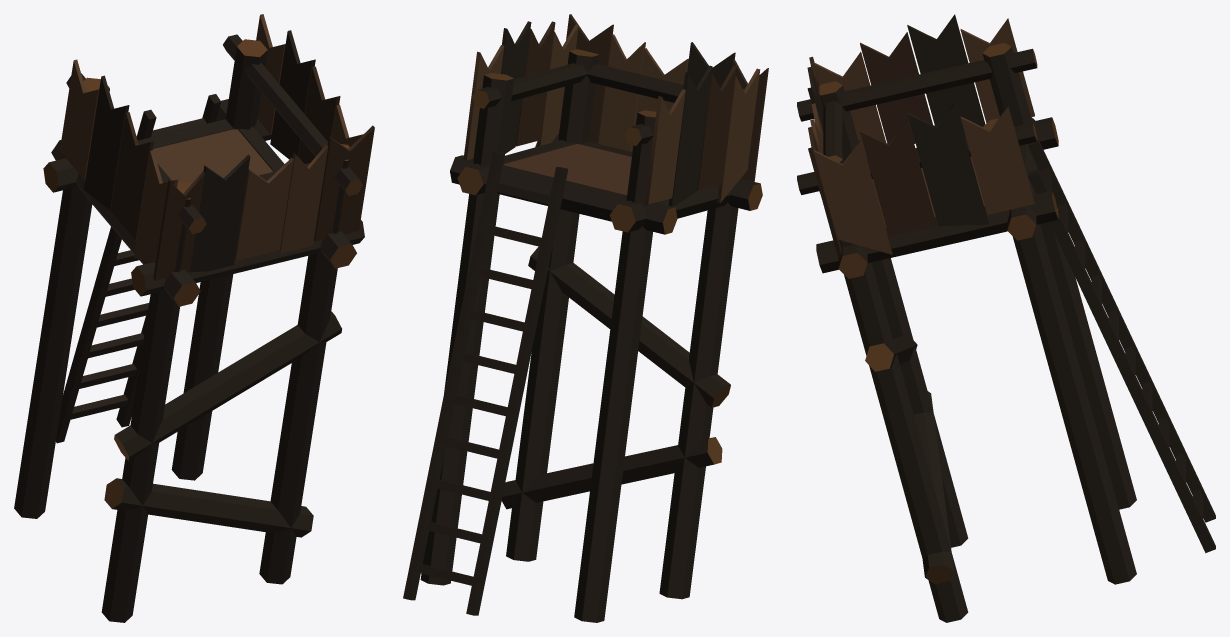
File: Wood_Tower_root.fbx
3 renders of one model, left to right at view 1: azimuth 30°, elevation 25°; view 2: azimuth 150°, elevation 25°; view 3: azimuth 270°, elevation 25°, orthographic. The views are drawn at different scales.
Visible parts, largest first — view 1: Wood_Tower_sh_12, Wood_Tower_sh_24, Wood_Tower_sh_2, Wood_Tower_sh_4, Wood_Tower_sh_19, Wood_Tower_sh_10, Wood_Tower_sh_14, Wood_Tower_sh_18, Wood_Tower_sh_1, Wood_Tower_sh_20, Wood_Tower_sh_26, Wood_Tower_sh_3 (+13 smaller); view 2: Wood_Tower_sh_3, Wood_Tower_sh_2, Wood_Tower_sh_19, Wood_Tower_sh_26, Wood_Tower_sh_14, Wood_Tower_sh_24, Wood_Tower_sh_25, Wood_Tower_sh_20, Wood_Tower_sh_1, Wood_Tower_sh_17, Wood_Tower_sh_12, Wood_Tower_sh_9 (+13 smaller); view 3: Wood_Tower_sh_2, Wood_Tower_sh_26, Wood_Tower_sh_3, Wood_Tower_sh_17, Wood_Tower_sh_4, Wood_Tower_sh_12, Wood_Tower_sh_1, Wood_Tower_sh_25, Wood_Tower_sh_7, Wood_Tower_sh_19, Wood_Tower_sh_10, Wood_Tower_sh_8 (+11 smaller).
Part boxes in pixels (box(x1,y1,x2,y2)): Wood_Tower_sh_12: box(117, 110, 247, 311); Wood_Tower_sh_24: box(239, 166, 368, 259); Wood_Tower_sh_2: box(193, 14, 300, 155); Wood_Tower_sh_4: box(263, 220, 364, 396); Wood_Tower_sh_19: box(20, 296, 121, 470); Wood_Tower_sh_10: box(118, 105, 250, 234); Wood_Tower_sh_14: box(101, 473, 171, 622); Wood_Tower_sh_18: box(163, 486, 310, 566); Wood_Tower_sh_1: box(247, 59, 374, 181); Wood_Tower_sh_20: box(114, 343, 173, 483); Wood_Tower_sh_26: box(57, 59, 138, 216); Wood_Tower_sh_3: box(91, 250, 233, 392); Wood_Tower_sh_3: box(409, 279, 520, 567); Wood_Tower_sh_2: box(450, 28, 526, 236); Wood_Tower_sh_19: box(441, 415, 625, 601); Wood_Tower_sh_26: box(608, 72, 704, 244); Wood_Tower_sh_14: box(634, 425, 722, 599); Wood_Tower_sh_24: box(542, 65, 683, 142); Wood_Tower_sh_25: box(507, 328, 570, 508); Wood_Tower_sh_20: box(676, 276, 730, 435); Wood_Tower_sh_1: box(519, 14, 692, 87); Wood_Tower_sh_17: box(420, 450, 538, 585); Wood_Tower_sh_12: box(703, 81, 762, 220); Wood_Tower_sh_9: box(487, 213, 641, 358); Wood_Tower_sh_2: box(931, 102, 1067, 273); Wood_Tower_sh_26: box(921, 14, 1055, 169); Wood_Tower_sh_3: box(1044, 279, 1203, 523); Wood_Tower_sh_17: box(926, 448, 1200, 622); Wood_Tower_sh_4: box(817, 252, 910, 423); Wood_Tower_sh_12: box(819, 36, 923, 193); Wood_Tower_sh_1: box(807, 87, 923, 191); Wood_Tower_sh_25: box(883, 405, 951, 577); Wood_Tower_sh_7: box(886, 78, 963, 234); Wood_Tower_sh_19: box(1075, 335, 1210, 503); Wood_Tower_sh_10: box(797, 25, 922, 131); Wood_Tower_sh_8: box(834, 193, 961, 274).
Size of the model in its own units: 2879 by 6845 by 4959.
